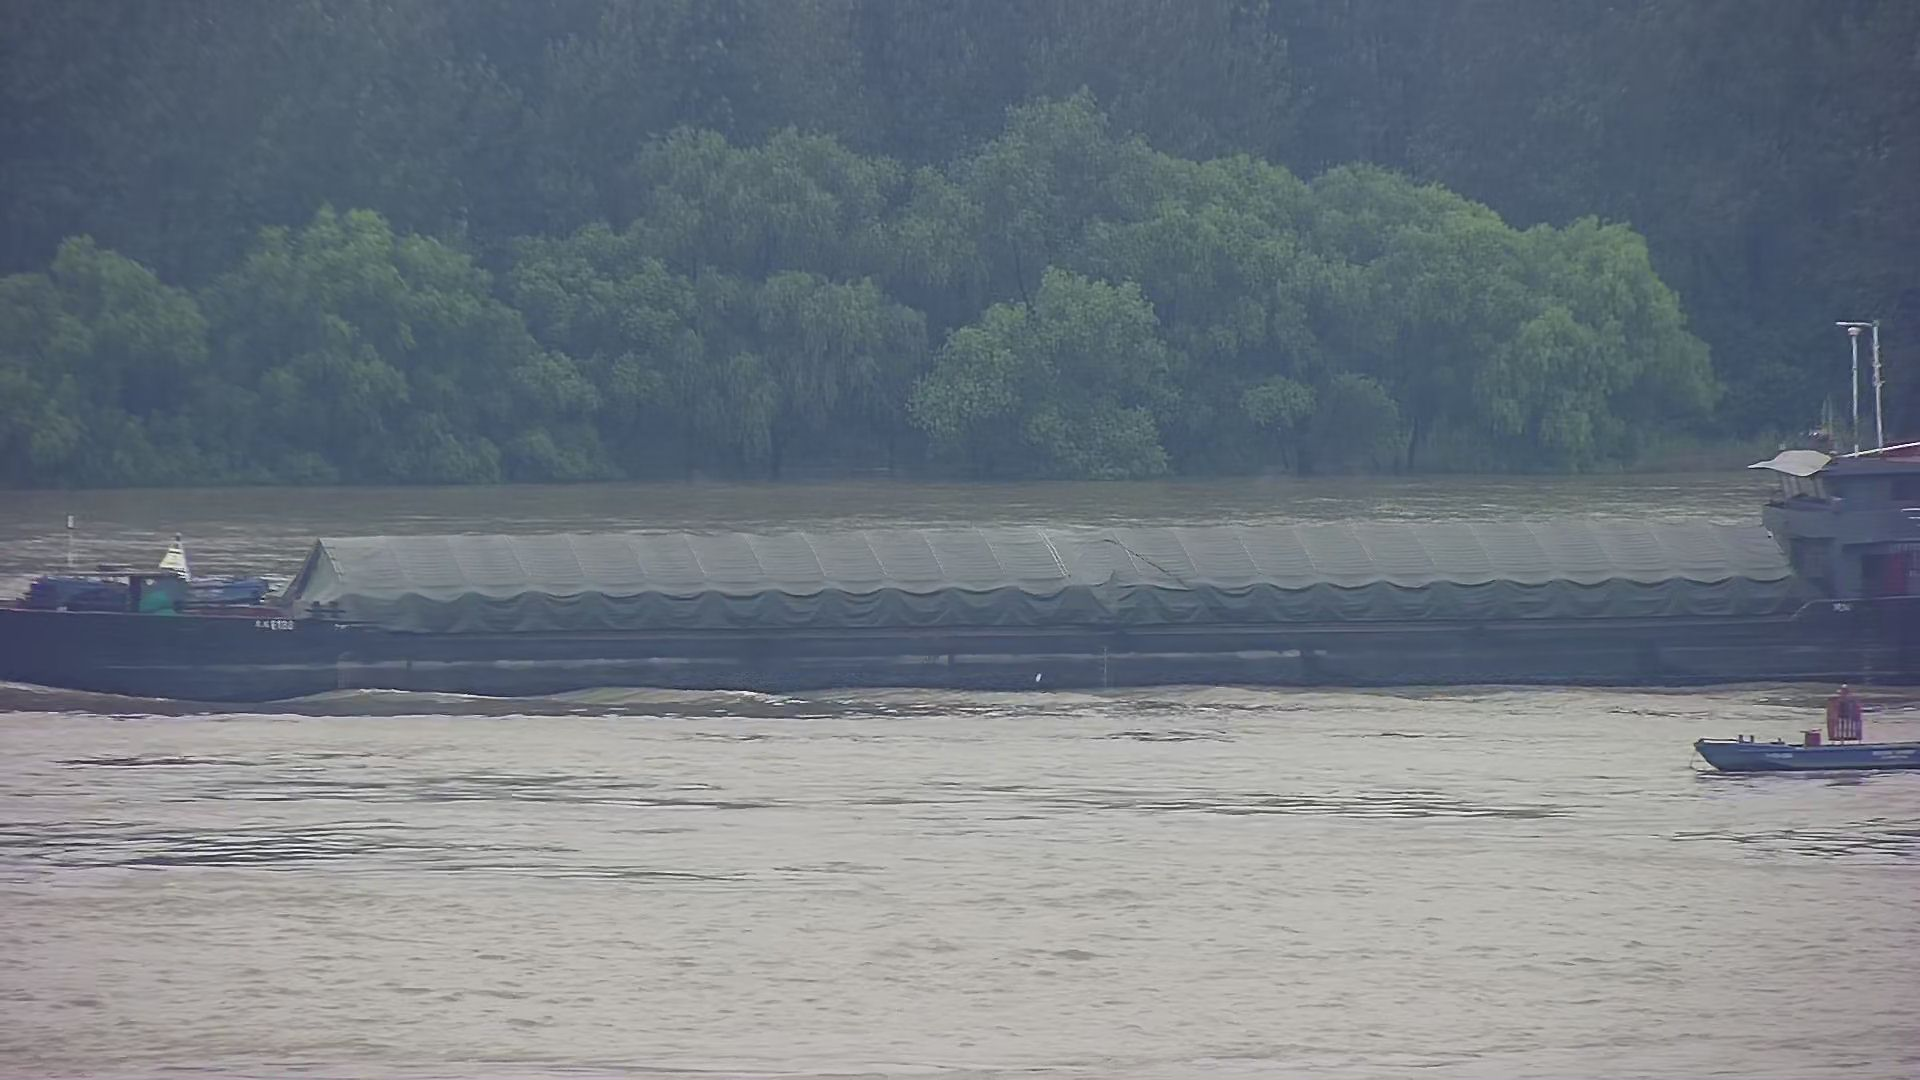boat: (1675, 679, 1920, 781)
ship: (9, 310, 1920, 724)
